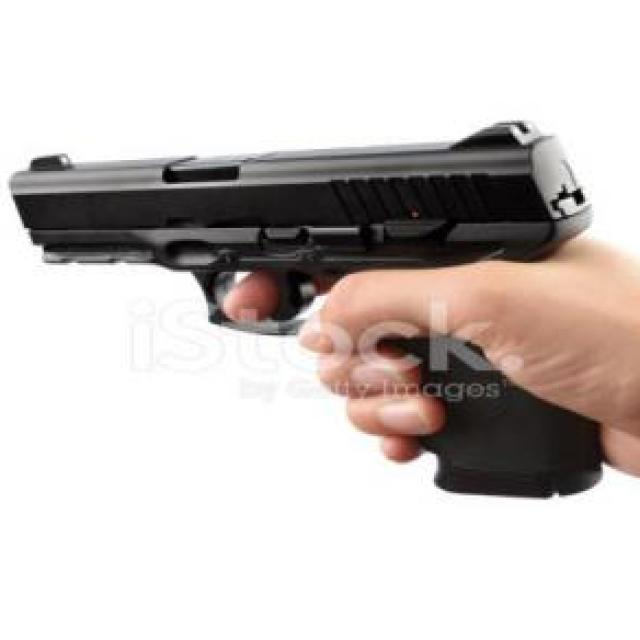pistol: (15, 105, 604, 503)
